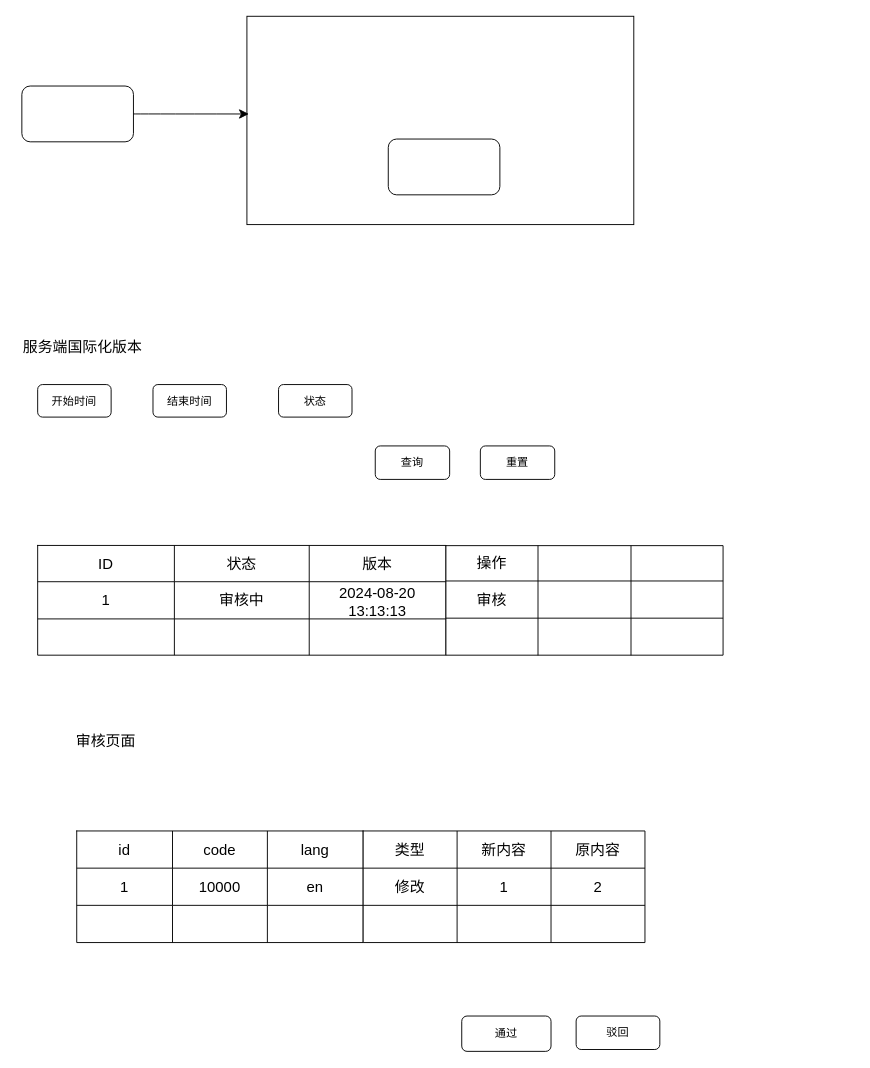
The diagram is 870 pixels wide and 1068 high, and some of its shapes have lost their labels. Here are the shapes that lost their labels. From the top down, the centre of each, then its label:
At [77,113]: "上传文件".
At [443,166]: "上传excel文件".
